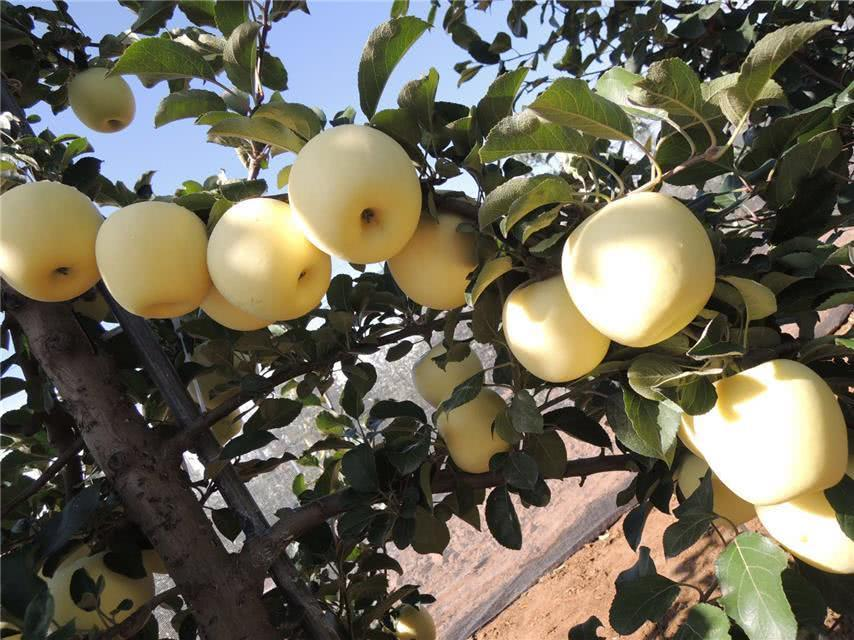apple: (561, 192, 716, 347), (694, 356, 851, 504), (288, 125, 421, 263), (208, 195, 337, 321), (96, 199, 213, 318), (1, 182, 108, 300), (501, 271, 608, 381), (385, 210, 484, 310), (410, 340, 486, 410), (64, 62, 135, 134)
